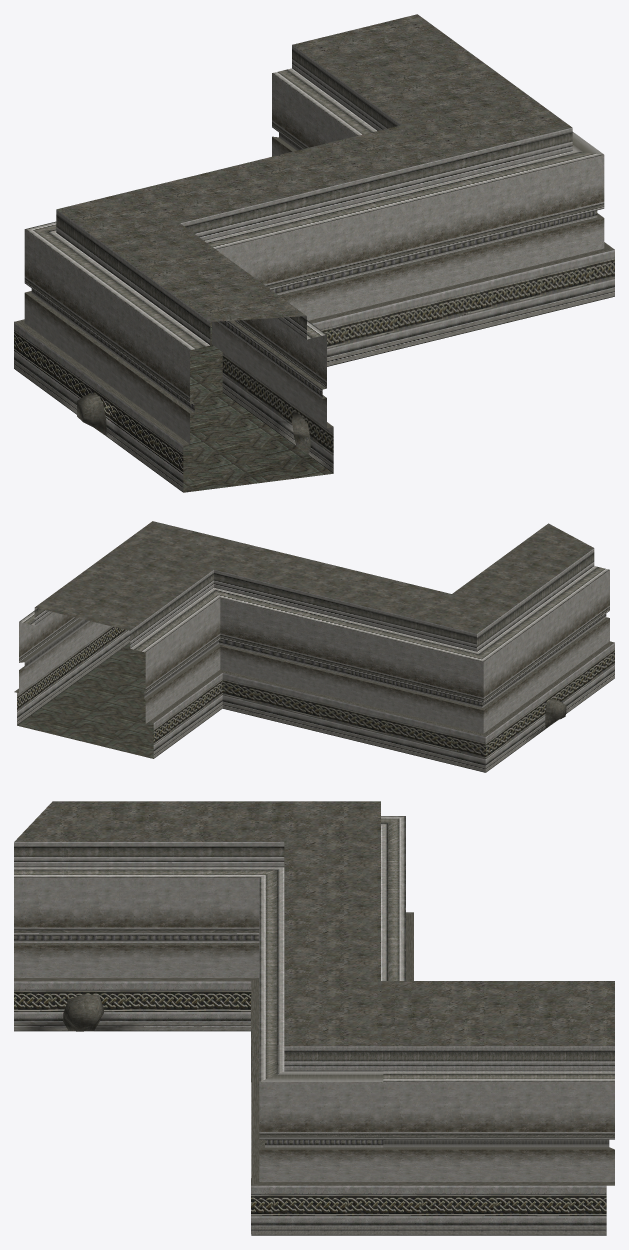
The model's file is DWARF_PALACE_GEAR_ROOM_HALLWAYA.fbx.
3 renders of one model, top to bottom at view 1: azimuth 30°, elevation 25°; view 2: azimuth 150°, elevation 25°; view 3: azimuth 270°, elevation 25°, orthographic. The views are drawn at different scales.
Visible parts, largest first — view 1: DWARF_PALACE_GEAR_ROOM_HALLWAYA; view 2: DWARF_PALACE_GEAR_ROOM_HALLWAYA; view 3: DWARF_PALACE_GEAR_ROOM_HALLWAYA.
Boxes of the visible parts, x1,y1,x2,y2 form: DWARF_PALACE_GEAR_ROOM_HALLWAYA: (14, 14, 614, 492); DWARF_PALACE_GEAR_ROOM_HALLWAYA: (14, 521, 614, 772); DWARF_PALACE_GEAR_ROOM_HALLWAYA: (14, 801, 614, 1235).
Size of the model in its own units: 241903 by 70000 by 217586.
7 materials, 7 textured.
